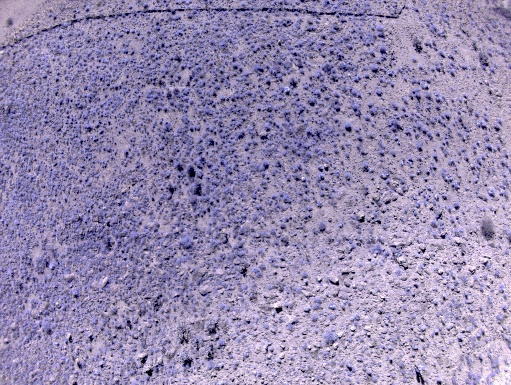agave: (368, 104, 381, 117), (233, 128, 246, 140), (368, 63, 380, 75), (261, 159, 272, 171), (306, 97, 318, 108), (282, 194, 294, 205), (424, 130, 435, 141), (400, 95, 411, 106), (414, 92, 424, 103), (250, 137, 260, 148), (420, 81, 431, 91), (337, 219, 347, 230), (344, 120, 352, 133), (212, 81, 222, 91), (313, 89, 323, 99), (361, 162, 371, 172), (230, 53, 239, 64), (183, 86, 192, 97), (375, 24, 386, 33), (349, 87, 358, 98), (310, 313, 319, 324), (312, 296, 323, 305), (196, 79, 207, 88), (406, 155, 415, 166), (367, 46, 375, 58), (443, 110, 451, 122), (310, 302, 322, 310), (236, 250, 248, 258), (196, 168, 204, 180), (262, 123, 271, 133), (264, 76, 273, 86), (363, 113, 372, 123), (378, 46, 388, 55), (484, 142, 494, 151), (345, 42, 354, 52), (352, 102, 360, 113), (375, 57, 384, 66), (216, 337, 225, 346), (332, 90, 341, 99), (355, 134, 364, 143), (377, 31, 387, 39), (420, 125, 428, 135), (250, 266, 260, 274), (279, 221, 287, 231), (414, 200, 422, 210), (378, 148, 386, 158), (256, 264, 267, 271), (352, 75, 363, 82), (194, 123, 202, 132), (453, 202, 462, 210), (375, 88, 383, 97), (242, 143, 250, 152), (157, 144, 166, 152), (304, 151, 313, 159), (315, 70, 323, 79), (392, 101, 400, 110), (387, 70, 396, 78), (384, 178, 393, 186), (344, 172, 351, 182), (194, 63, 202, 71), (237, 66, 245, 74), (356, 91, 364, 99), (270, 192, 278, 200), (282, 142, 290, 150), (416, 143, 424, 151), (449, 69, 457, 77), (404, 128, 412, 136), (319, 173, 326, 182), (302, 83, 309, 92), (165, 169, 171, 179), (232, 62, 239, 70), (265, 42, 272, 50), (220, 94, 227, 102), (162, 105, 169, 113), (286, 174, 293, 182), (292, 88, 299, 96), (319, 191, 326, 199), (400, 105, 408, 112), (331, 67, 337, 76), (186, 63, 193, 70), (301, 271, 308, 278), (328, 47, 335, 54), (260, 42, 266, 50), (244, 34, 250, 42), (188, 126, 196, 132), (187, 99, 195, 105), (432, 152, 438, 160), (180, 63, 186, 69), (168, 100, 174, 106), (250, 42, 255, 49)
